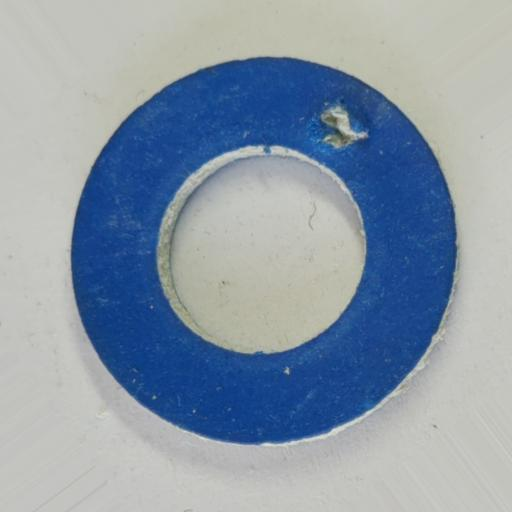defect: (316, 100, 371, 148)
